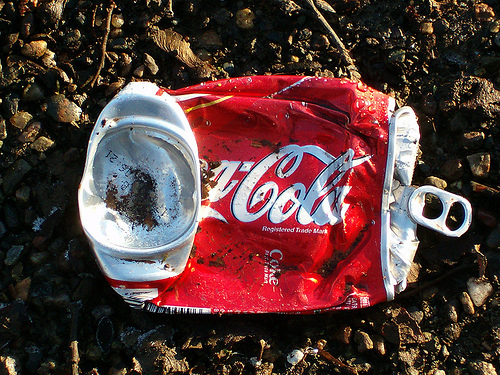litter: (77, 73, 471, 315)
